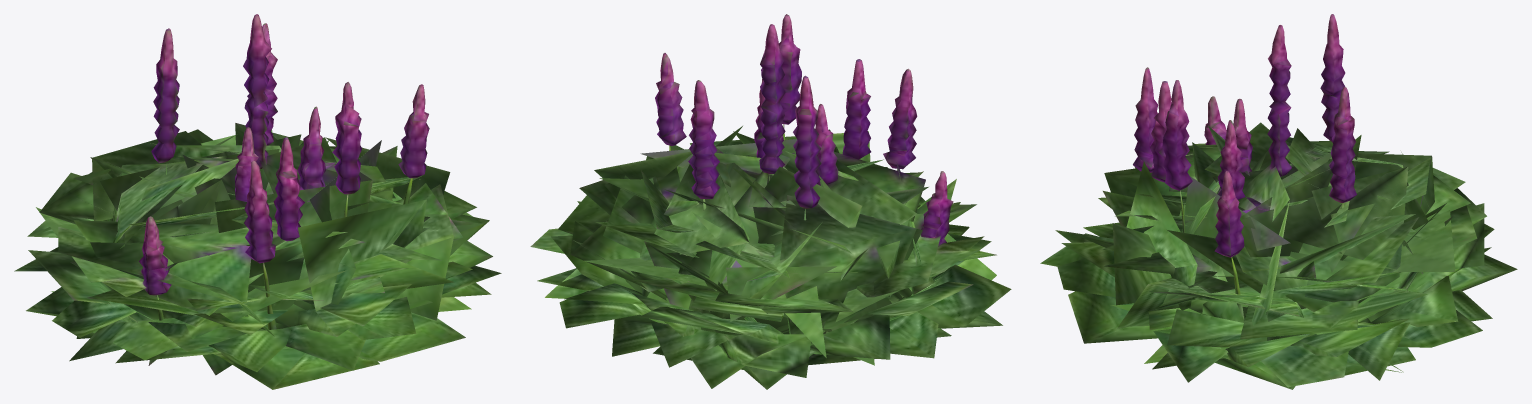
The model's file is lupine-clump.glb.
3 renders of one model, left to right at view 1: azimuth 30°, elevation 25°; view 2: azimuth 150°, elevation 25°; view 3: azimuth 270°, elevation 25°, orthographic. The views are drawn at different scales.
Size of the model in its own units: 0.9536 by 0.6006 by 0.9273.
1 material, 1 textured.
